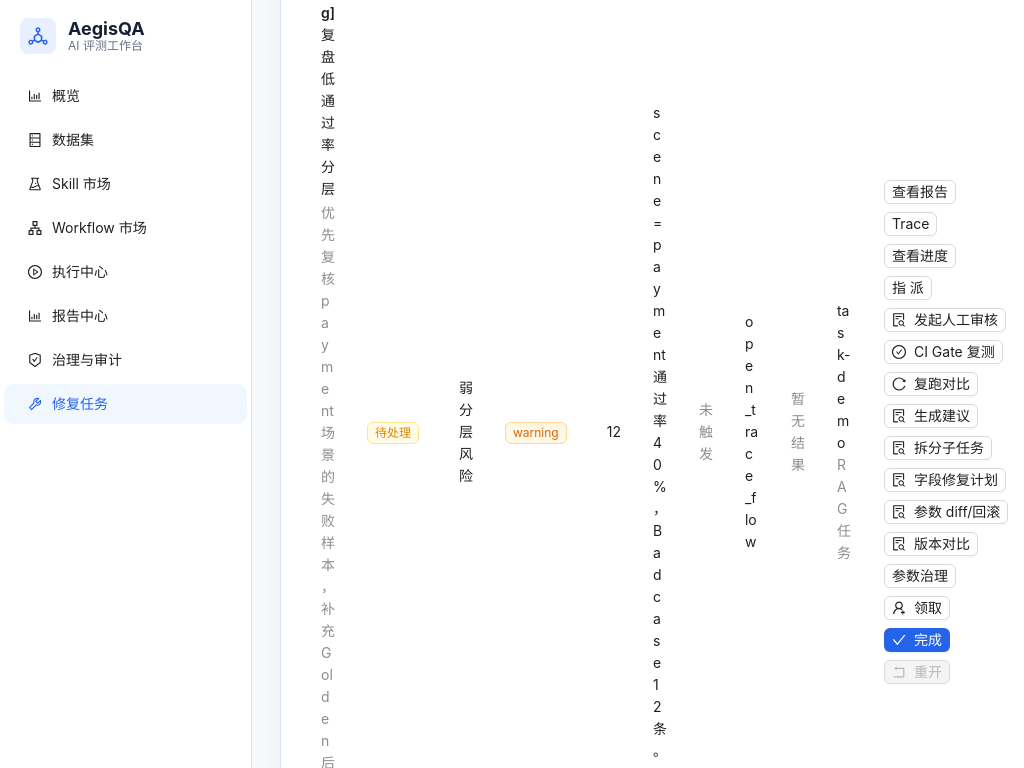
Scenario: 修复任务工作台 › 修复任务工作台支持复跑并展示 Attempt 对比结果
The width and height of the screenshot is (1024, 768).
(page scrolled)
Click the button "复跑对比" at (931, 384), box [884,372,978,396]
(page scrolled)
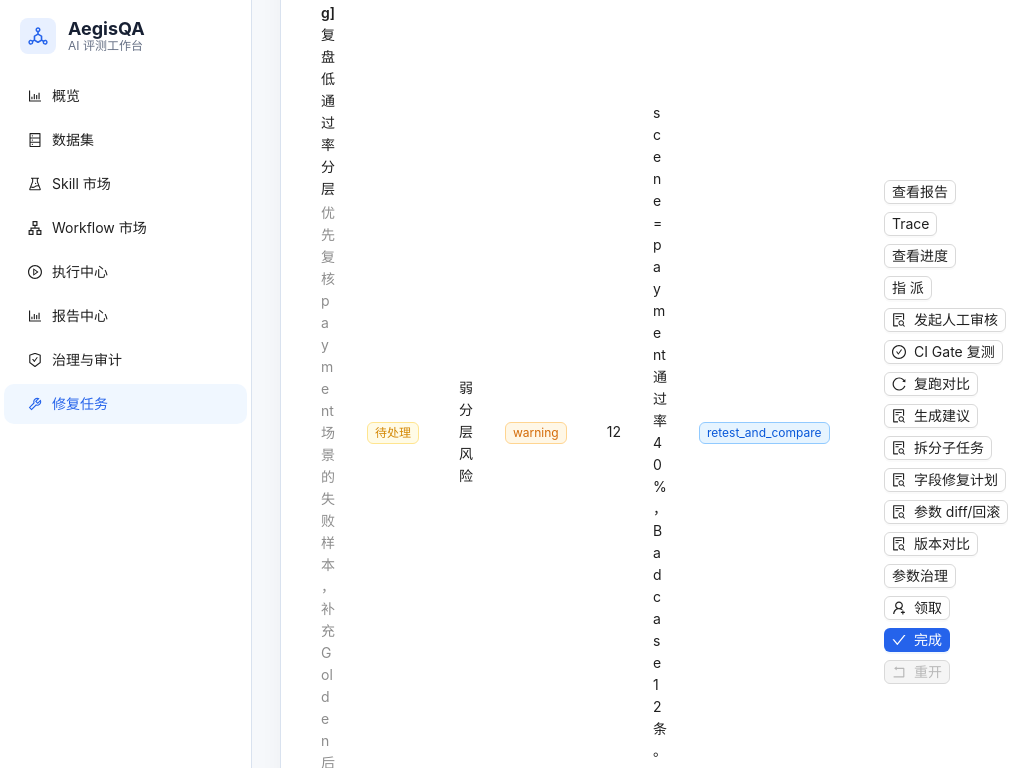
Now the text "retest_and_compare" is shown, box [699,422,830,444]
